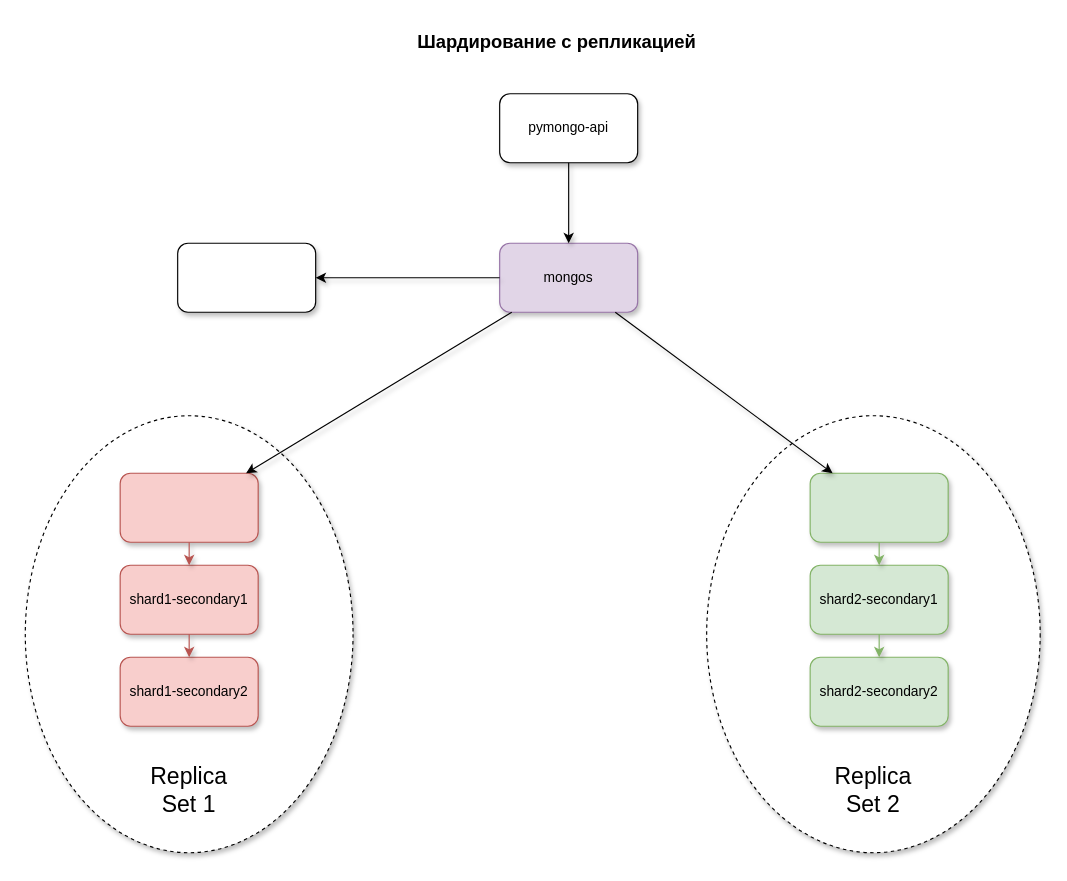
Some shapes in this 1067 by 881 pixel diagram are drawn without their labels. Here are the shapes that lost their labels. From the top down, the centre of each, then its label:
At [247,278]: "configsvr".
At [189,508]: "shard1 (Primary)".
At [879,508]: "shard2 (Primary)".
